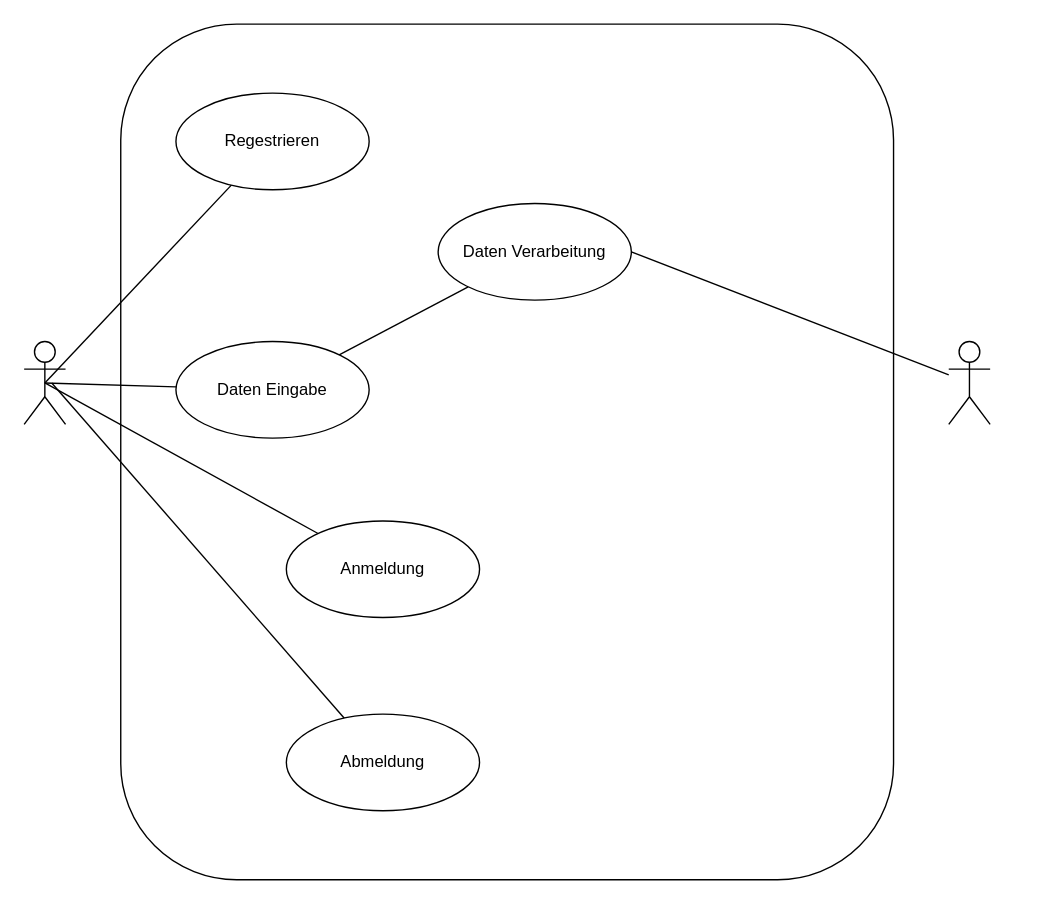
This 1038x904 diagram has some shape labels left out. The shapes that lost their labels are listed below. From the top down, each one's box as (x1, y1, x2, y2) in pixels, then its label:
(23, 340, 66, 424): User
(947, 340, 990, 424): Prometheus
